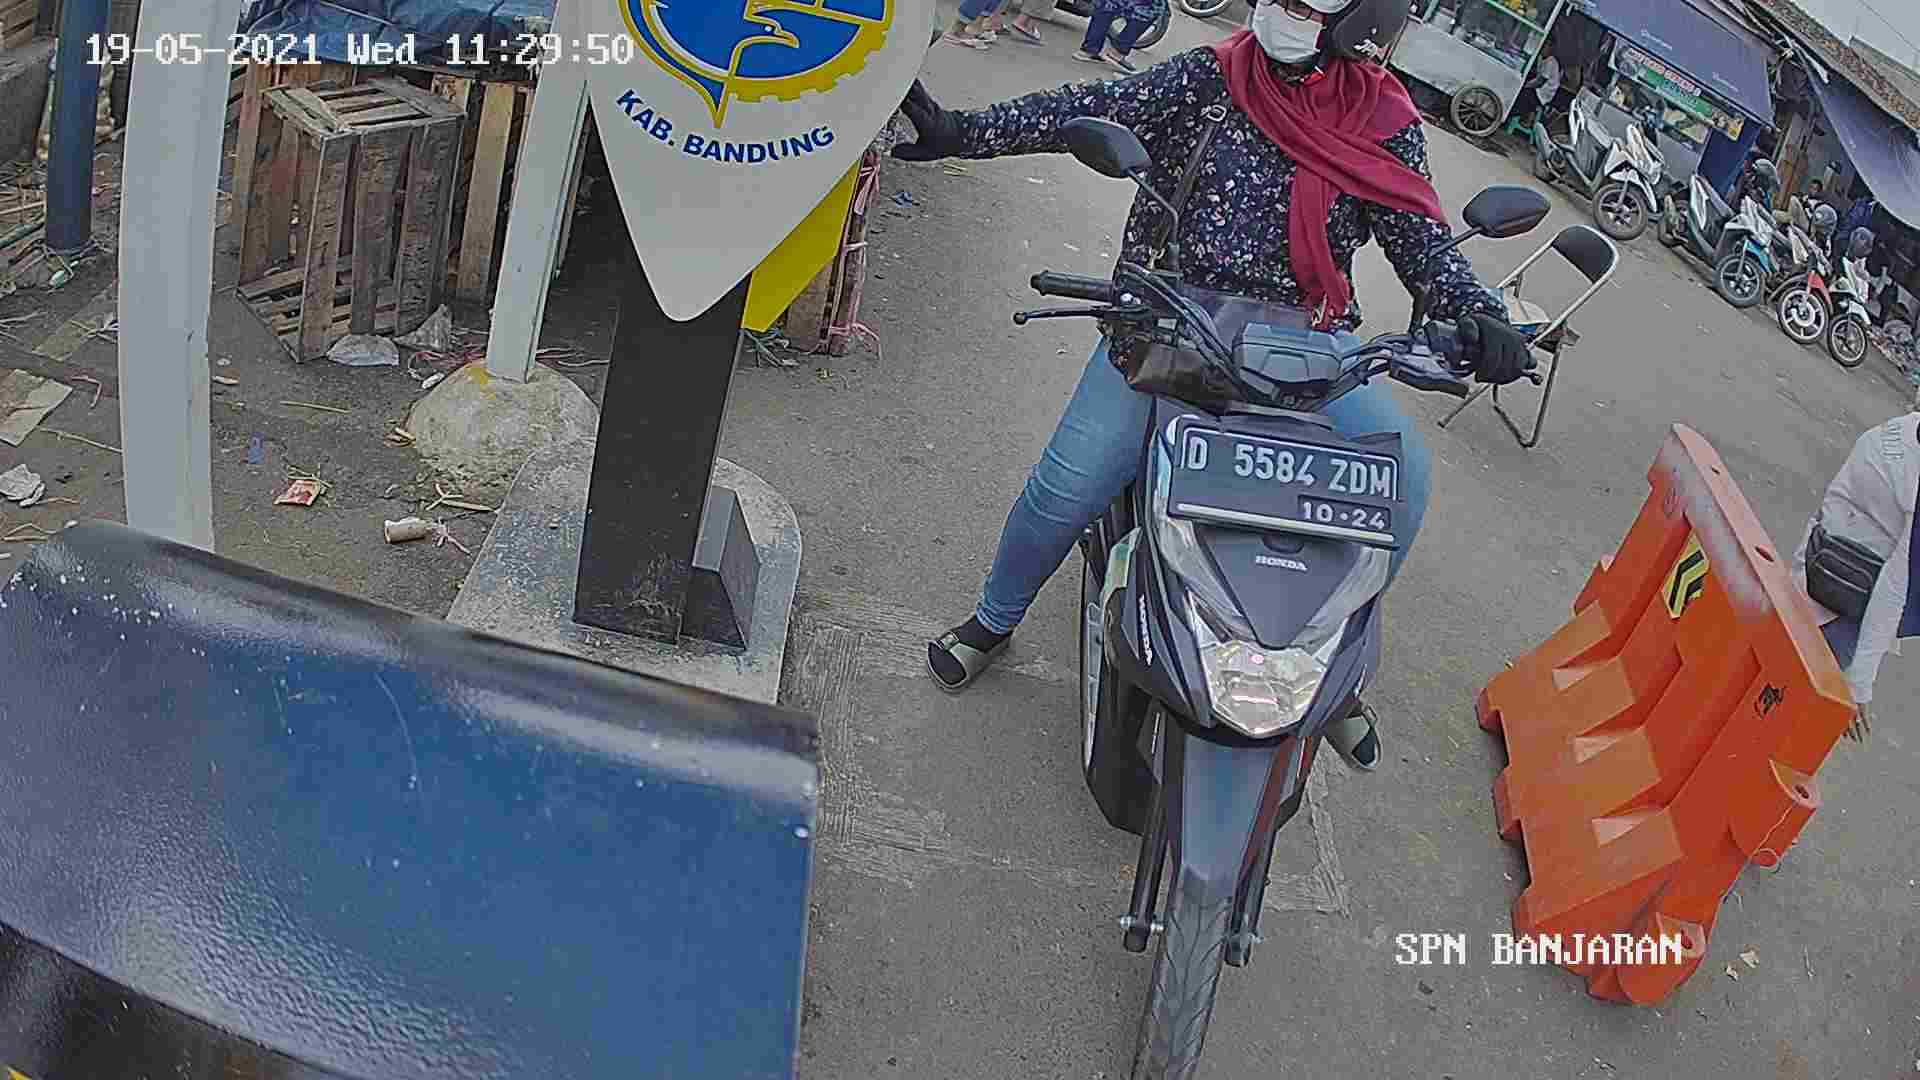motor: (1005, 284, 1443, 1079)
